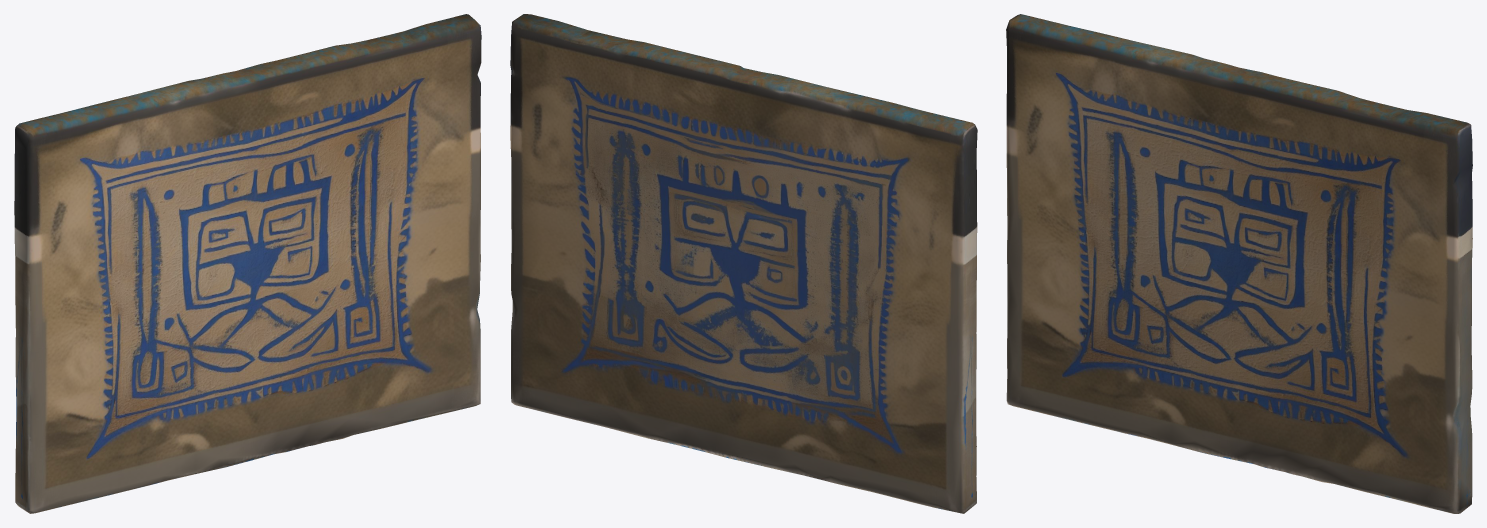
File: Sellos.glb
The picture shows the model from 3 angles, left to right: view 1: azimuth 30°, elevation 25°; view 2: azimuth 150°, elevation 25°; view 3: azimuth 330°, elevation 25°; orthographic projection.
Visible parts, largest first — view 1: Mesh1.0; view 2: Mesh1.0; view 3: Mesh1.0.
Boxes of the visible parts, left/top/right/bottom form: Mesh1.0: left=14, top=14, right=481, bottom=513; Mesh1.0: left=510, top=14, right=977, bottom=513; Mesh1.0: left=1006, top=14, right=1472, bottom=513.
Bounding box in the file's own units: 0.6179 × 0.5 × 0.0374.
Materials: 1 (1 with a texture image).
